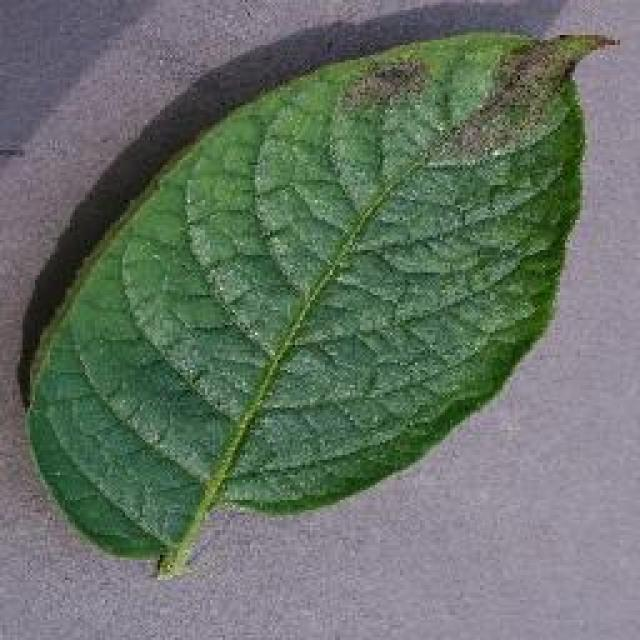late_blight: (18, 20, 618, 578)
